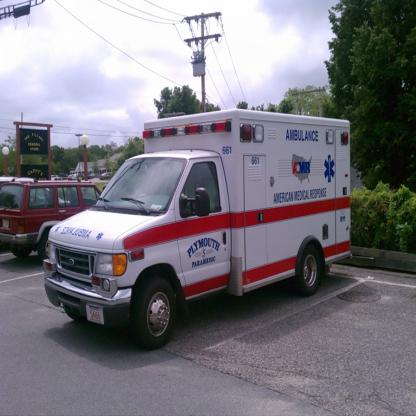Ambulance: (41, 108, 352, 344)
